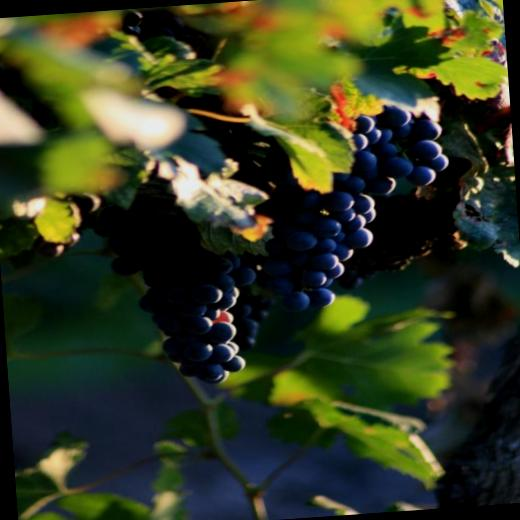Orange: (6, 101, 462, 396)
